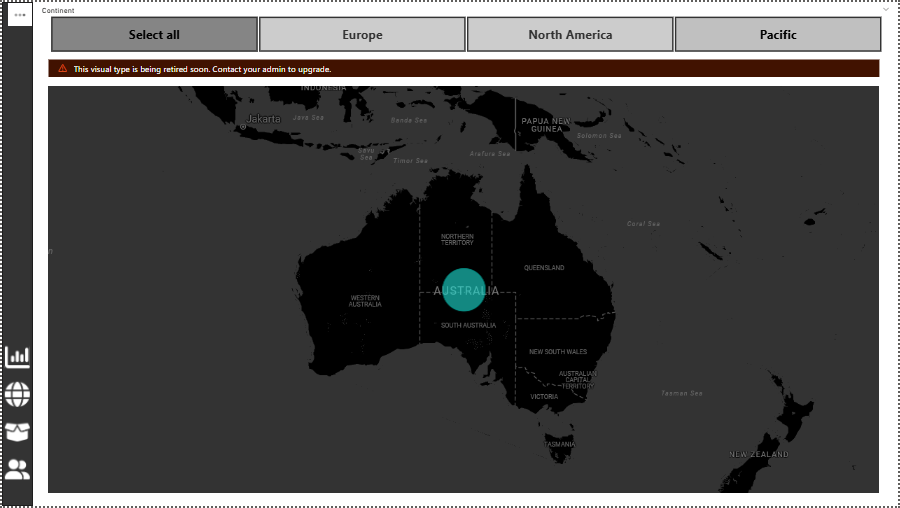

Layout of this report page (visuals, bound fields, positions):
{"tool":"powerbi","page":{"name":"Map","canvas":[1280,720],"ordinal":1},"visuals":[{"type":"shape","box":[0,0,44.3,720],"z":0},{"type":"actionButton","box":[0,485,61.2,43.8],"z":0,"group":"g1"},{"type":"map","fields":{"Category":["Territory Lookup.Country"],"Size":["Measure Table.Total Orders"]},"box":[61.4,77.1,1197.1,630],"z":1000},{"type":"actionButton","box":[0,538.3,61.2,43.8],"z":1000,"group":"g1"},{"type":"slicer","fields":{"Values":["Territory Lookup.Continent"]},"box":[43.8,0,1236.2,77.5],"z":2000},{"type":"actionButton","box":[0,591.7,61.2,43.8],"z":2000,"group":"g1"},{"type":"group","id":"g1","title":"Navigation Buttons","box":[0,485,61.2,203.8],"z":3000},{"type":"actionButton","box":[0,645,61.2,43.8],"z":3000,"group":"g1"}]}

Visuals, with their boxes in screenshot pixels (x1, y1, x2, y2):
shape: detection(0, 0, 31, 499)
actionButton: detection(0, 336, 42, 367)
map - Territory Lookup.Country x Measure Table.Total Orders: detection(43, 53, 873, 490)
actionButton: detection(0, 373, 42, 404)
slicer - Territory Lookup.Continent: detection(30, 0, 888, 54)
actionButton: detection(0, 410, 42, 441)
"Navigation Buttons" group: detection(0, 336, 42, 478)
actionButton: detection(0, 447, 42, 478)
